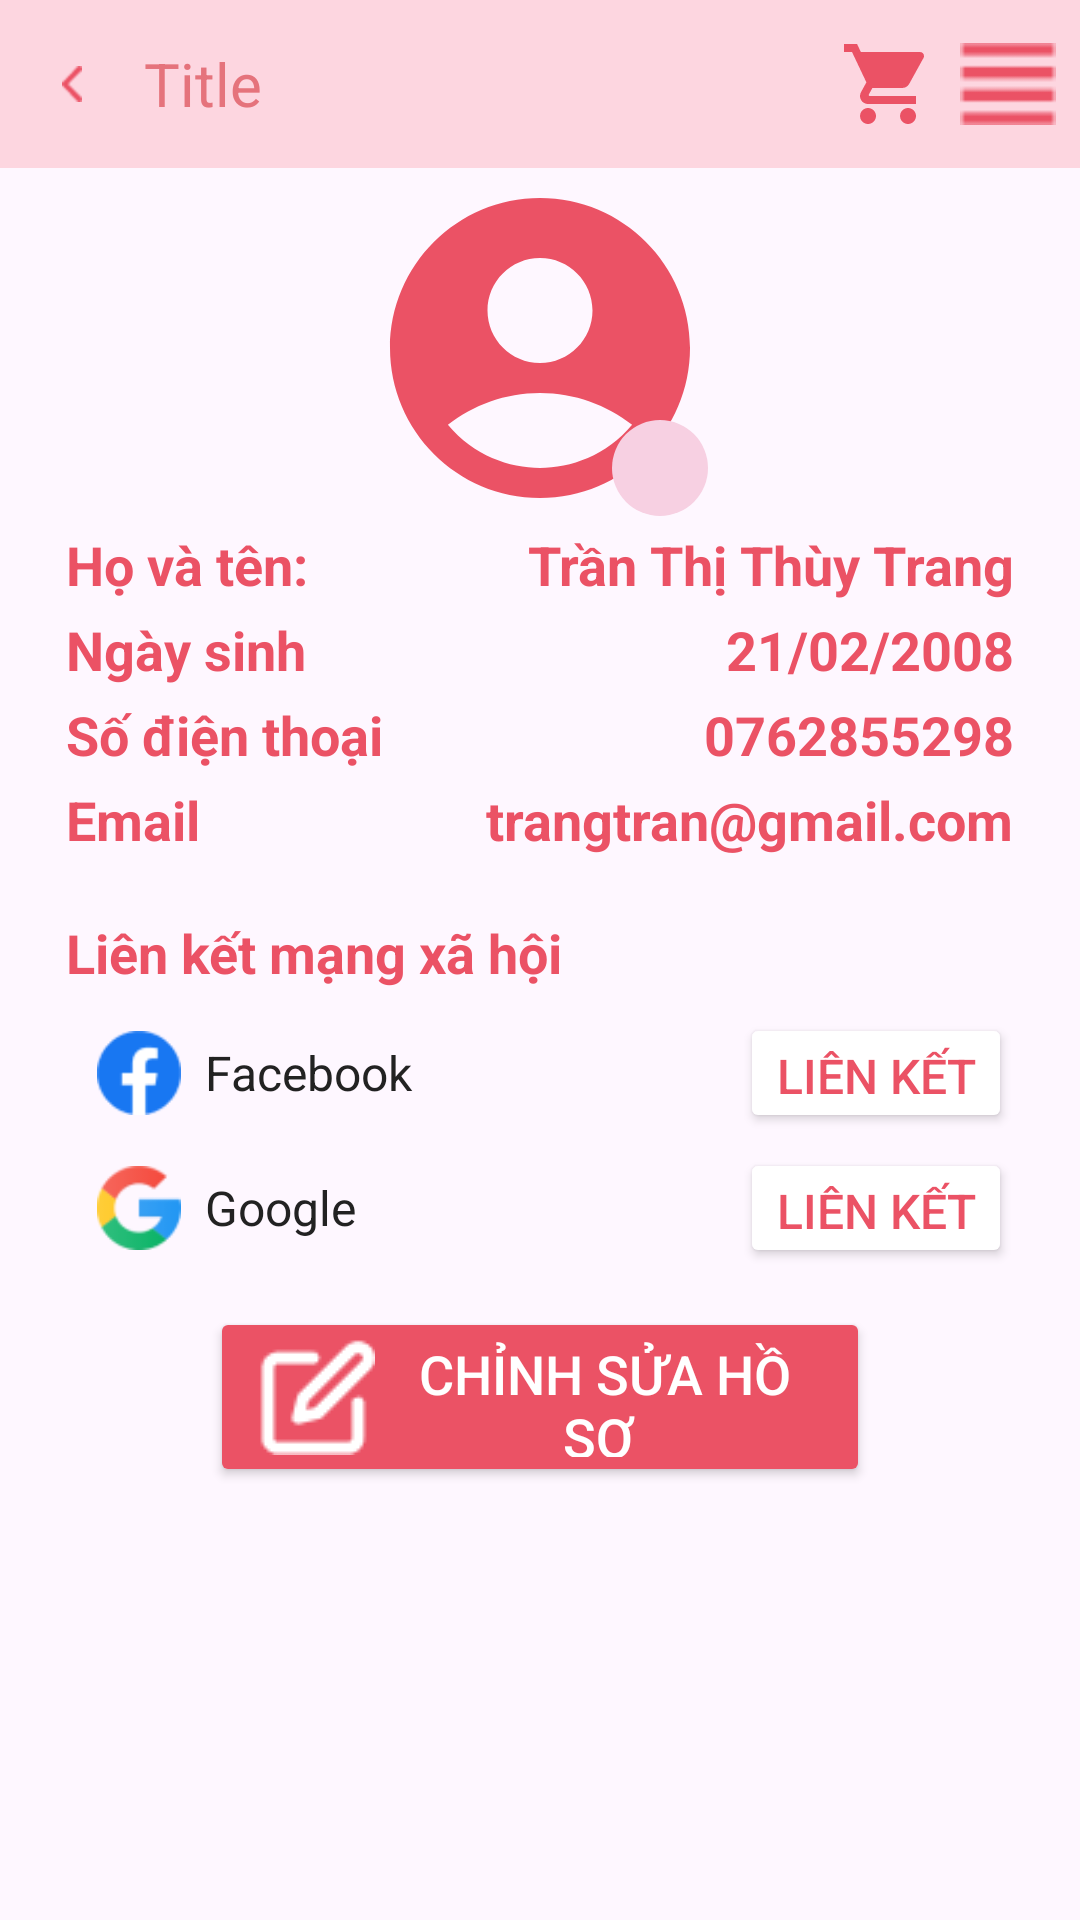

Icons on this 1080px×1920px Android screen, each with the point to tap as [x,y]:
account: [549,357]
back: [72,84]
cart: [884,84]
menu: [1008,84]
